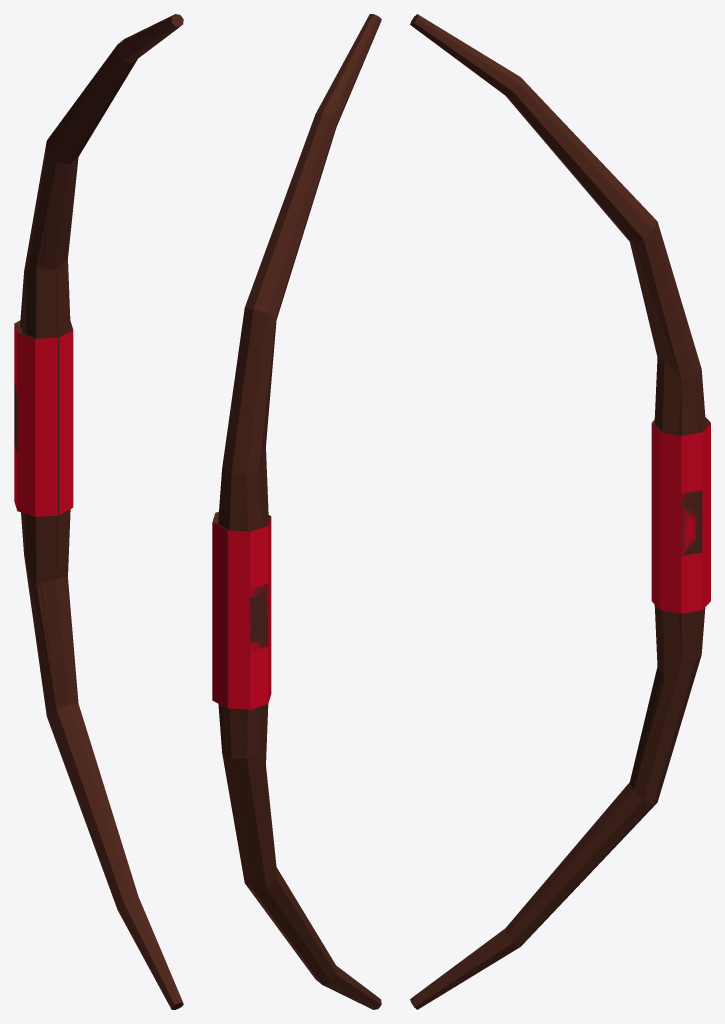
Rendered from bow.fbx.
3 renders of one model, left to right at view 1: azimuth 30°, elevation 25°; view 2: azimuth 150°, elevation 25°; view 3: azimuth 270°, elevation 25°, orthographic.
Visible parts, largest first — view 1: bow; view 2: bow; view 3: bow.
Part boxes in pixels (bbox=[...]): bow: bbox=[14, 14, 183, 1009]; bow: bbox=[212, 14, 381, 1009]; bow: bbox=[410, 14, 710, 1009].
Size of the model in its own units: 0.6894 by 12.39 by 3.4.
